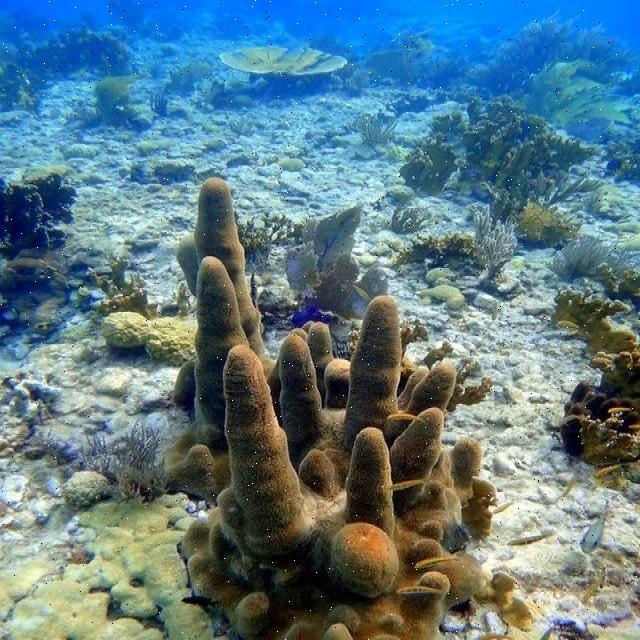reefs: (162, 176, 531, 639)
